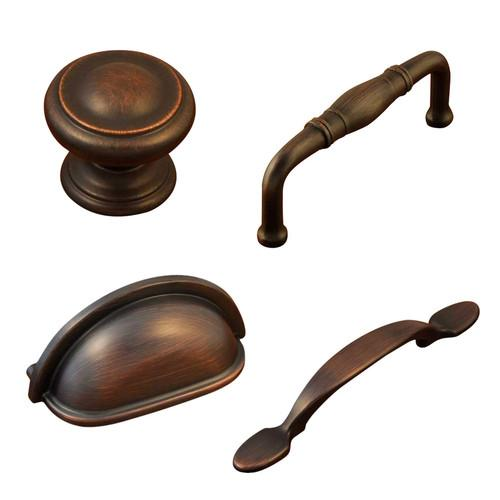handle: (252, 67, 460, 234), (257, 325, 473, 483), (12, 298, 250, 417), (36, 62, 202, 193)
